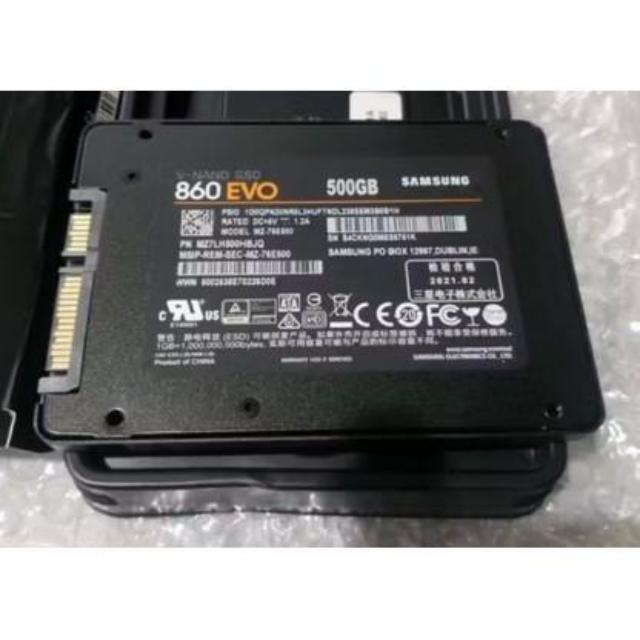DISK: (38, 111, 602, 444)
